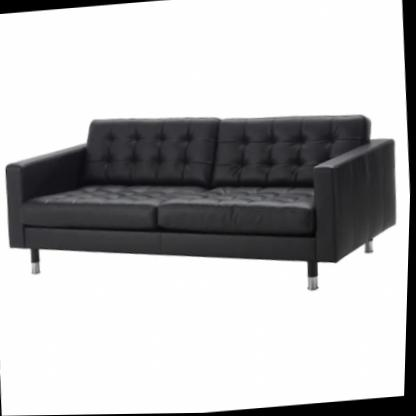Sofa: (0, 94, 407, 317)
